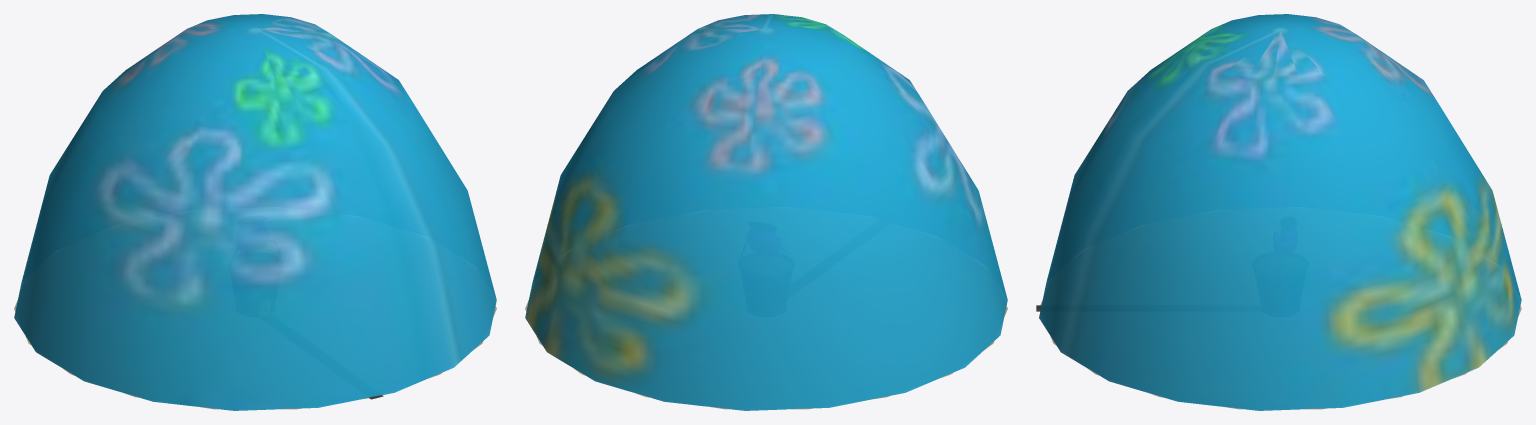
The model's file is chum-bucket-v2-opt1.glb.
3 views of the same model, side by side, from view 1: azimuth 30°, elevation 25°; view 2: azimuth 150°, elevation 25°; view 3: azimuth 270°, elevation 25° (orthographic).
Parts seen in each view (by area): view 1: Skybox; view 2: Skybox; view 3: Skybox.
Part boxes in pixels (<box>): Skybox: <box>14,14,496,410</box>; Skybox: <box>525,14,1007,410</box>; Skybox: <box>1039,14,1521,410</box>.
Bounding box in the file's own units: 2243 × 1436 × 2257.
Materials: 11 (6 with a texture image).
